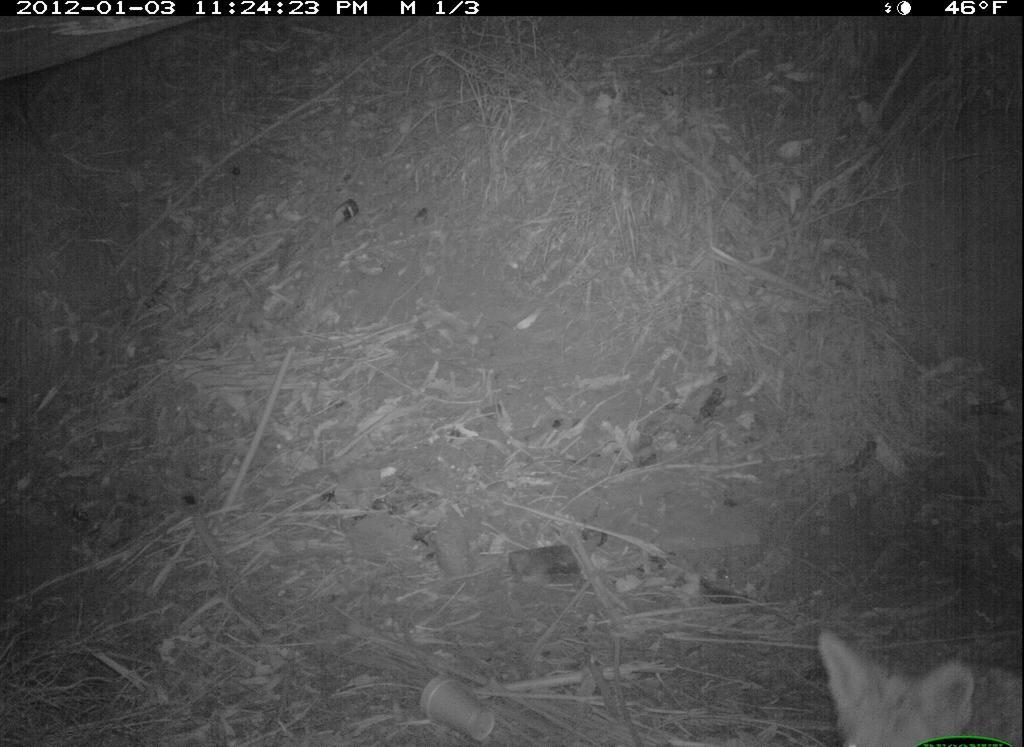coyote: (776, 626, 1014, 744)
